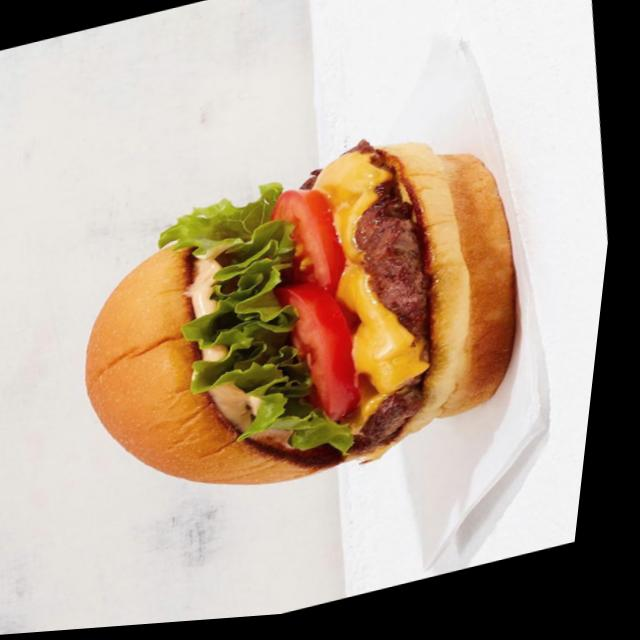burger: (47, 105, 565, 537)
